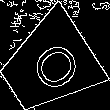O_SW: (17, 33, 80, 98)
